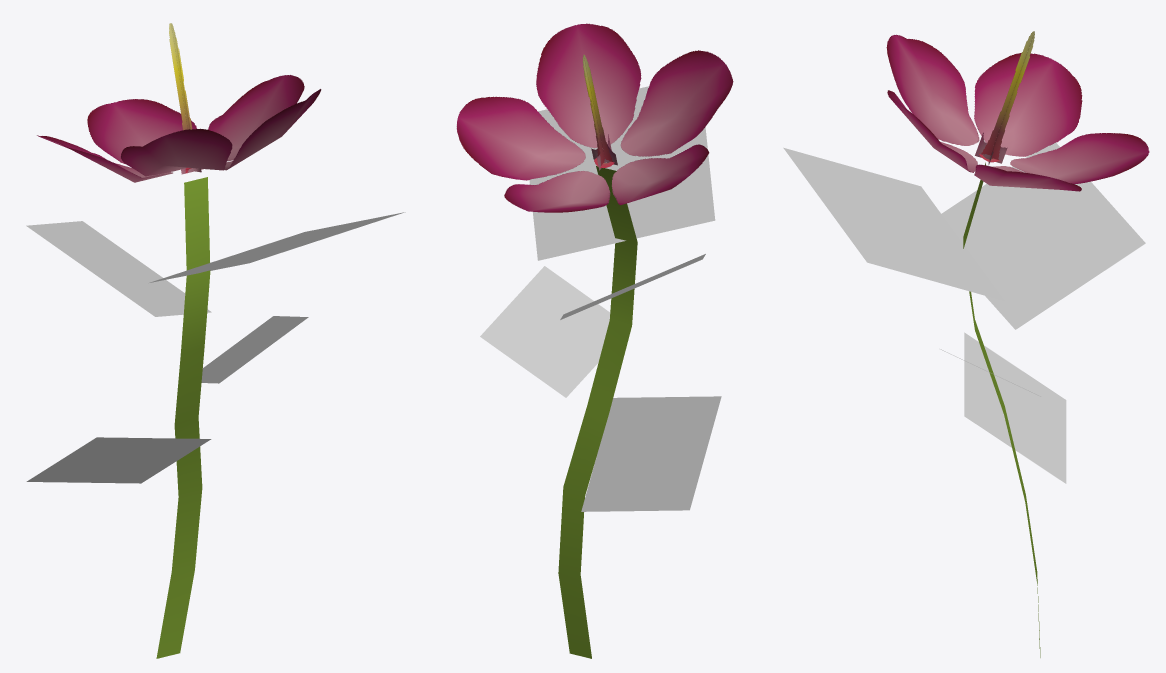
The model's file is flower_stem.fbx.
3 views of the same model, side by side, from view 1: azimuth 30°, elevation 25°; view 2: azimuth 150°, elevation 25°; view 3: azimuth 270°, elevation 25° (orthographic). The views are drawn at different scales.
Visible parts, largest first — view 1: Flower_stem; view 2: Flower_stem; view 3: Flower_stem.
Part boxes in pixels (x1,y1,x2,y2): Flower_stem: (26, 23, 405, 658); Flower_stem: (456, 23, 733, 658); Flower_stem: (783, 31, 1149, 657).
Size of the model in its own units: 24.11 by 51.92 by 27.51.
